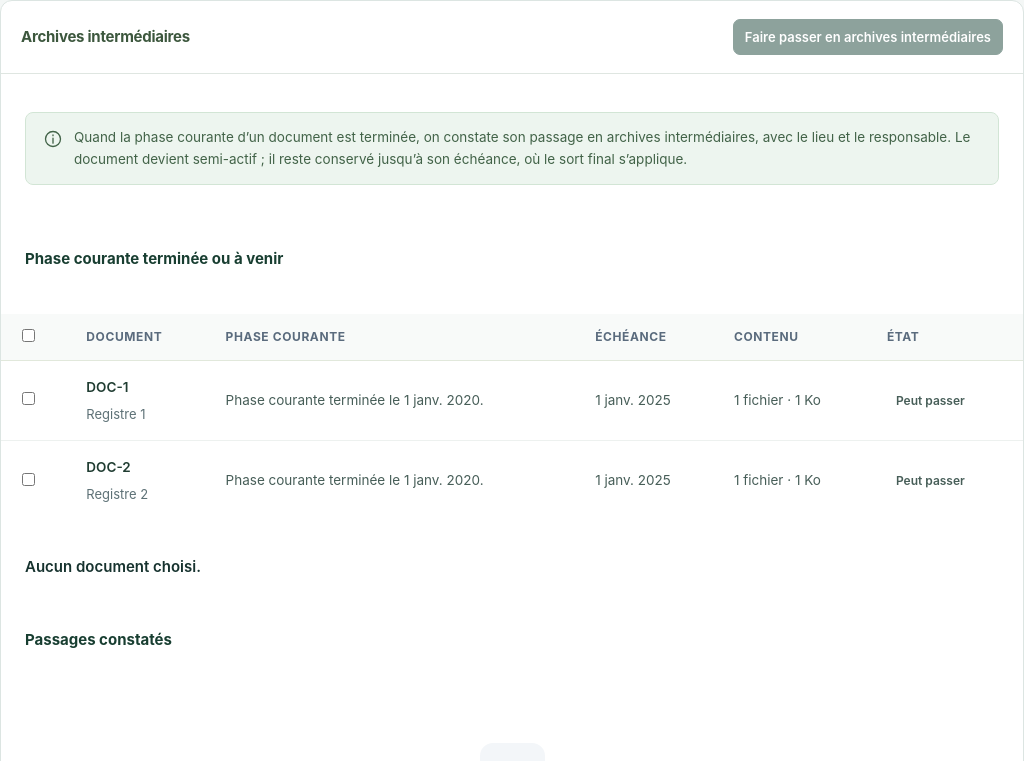
Test: constater un passage exige le lieu et le responsable, puis part avec les échéances choisies et s’ouvre
Click the checkbox named "Choisir DOC-1": (28, 399) x1=22 y1=392 x2=35 y2=405
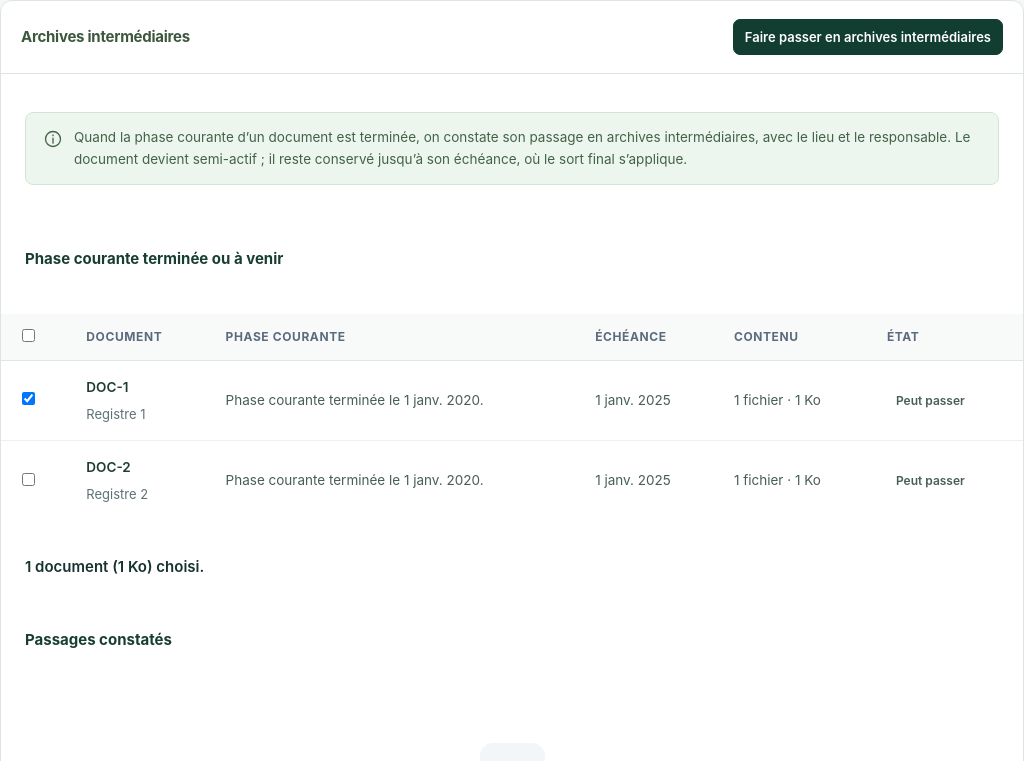
Click the button "Faire passer en archives intermédiaires": (868, 37) x1=733 y1=19 x2=1003 y2=55
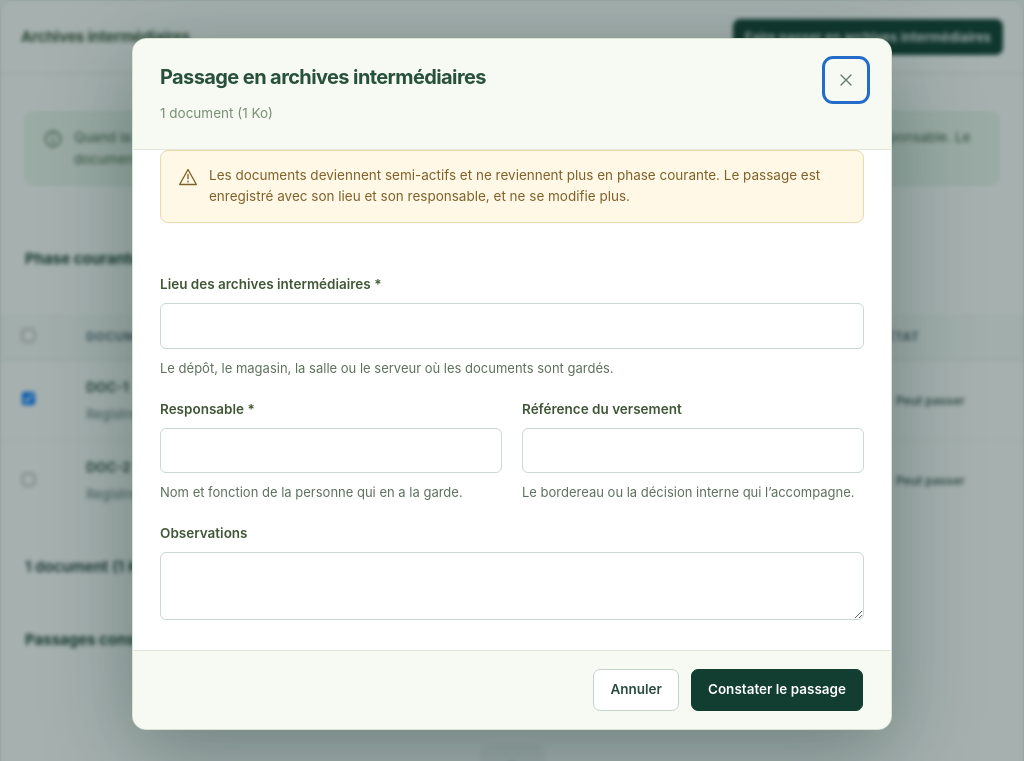
Click the button "Constater le passage": (777, 690) x1=691 y1=669 x2=863 y2=711
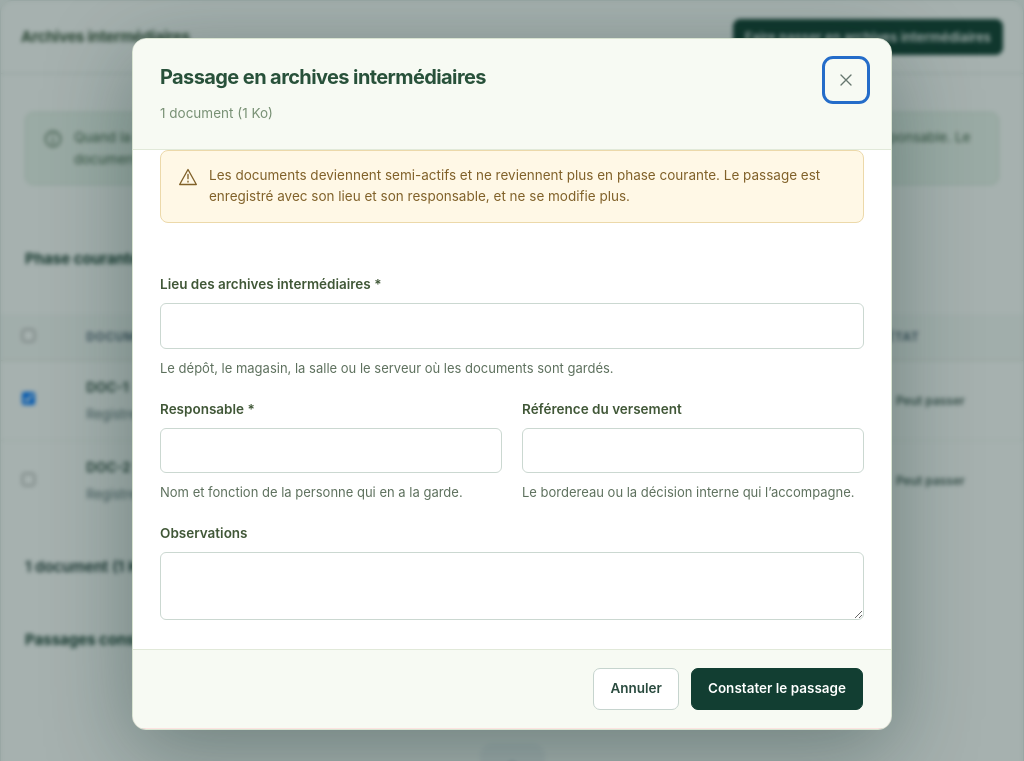
In the field labelled "Lieu des archives intermédiaires": (512, 326) x1=160 y1=303 x2=864 y2=348, type "Magasin 3"
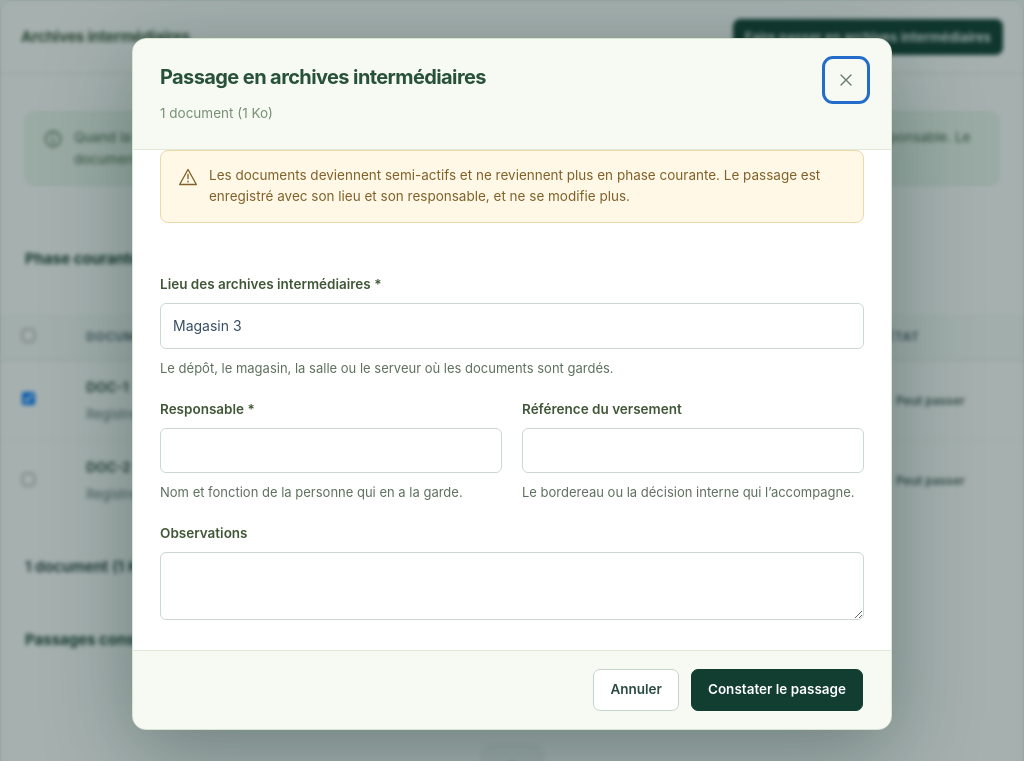
In the field labelled "Responsable": (331, 450) x1=160 y1=428 x2=502 y2=473, type "Mme Camara"
In the field labelled "Référence du versement": (693, 450) x1=522 y1=428 x2=864 y2=473, type "VERS-2026-04"
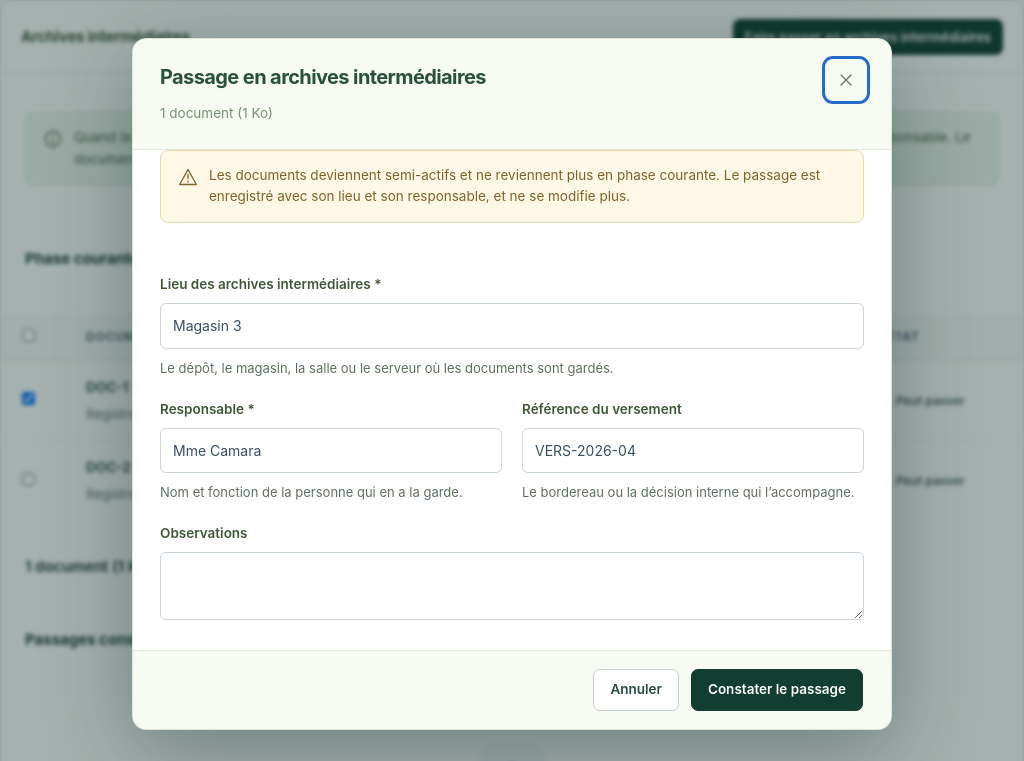
Click the button "Constater le passage": (777, 690) x1=691 y1=669 x2=863 y2=711
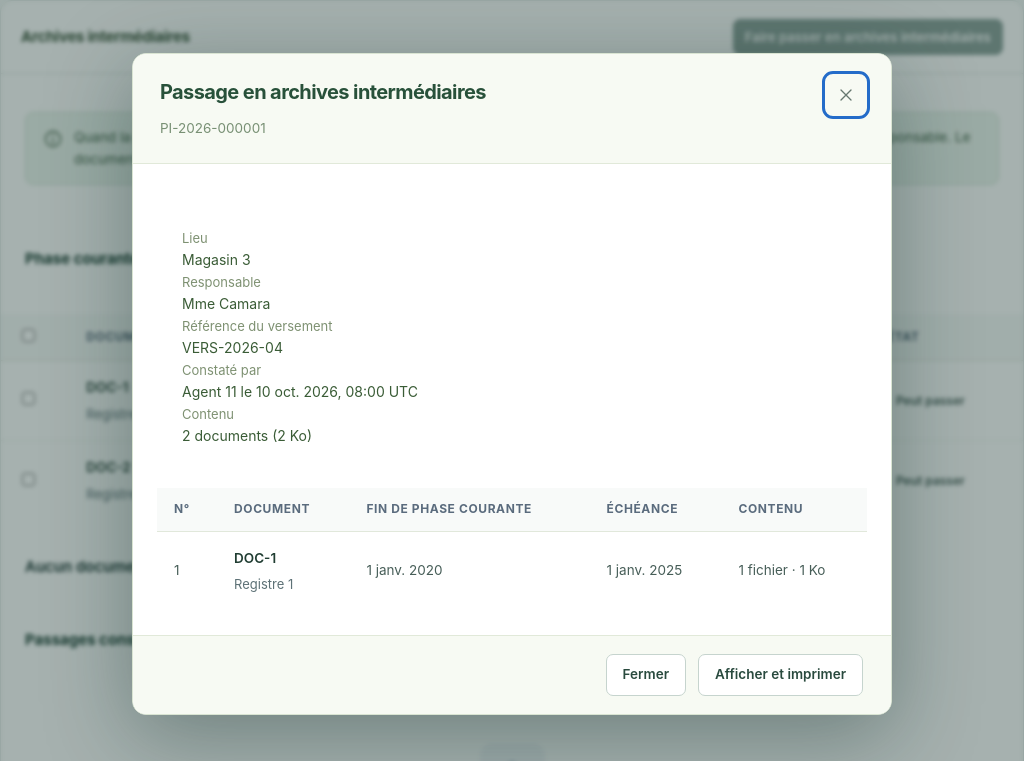
Now the heading "Passage en archives intermédiaires" is shown, box x1=160 y1=77 x2=486 y2=108
Now the text "PI-2026-000001" is shown, box x1=160 y1=120 x2=266 y2=136
